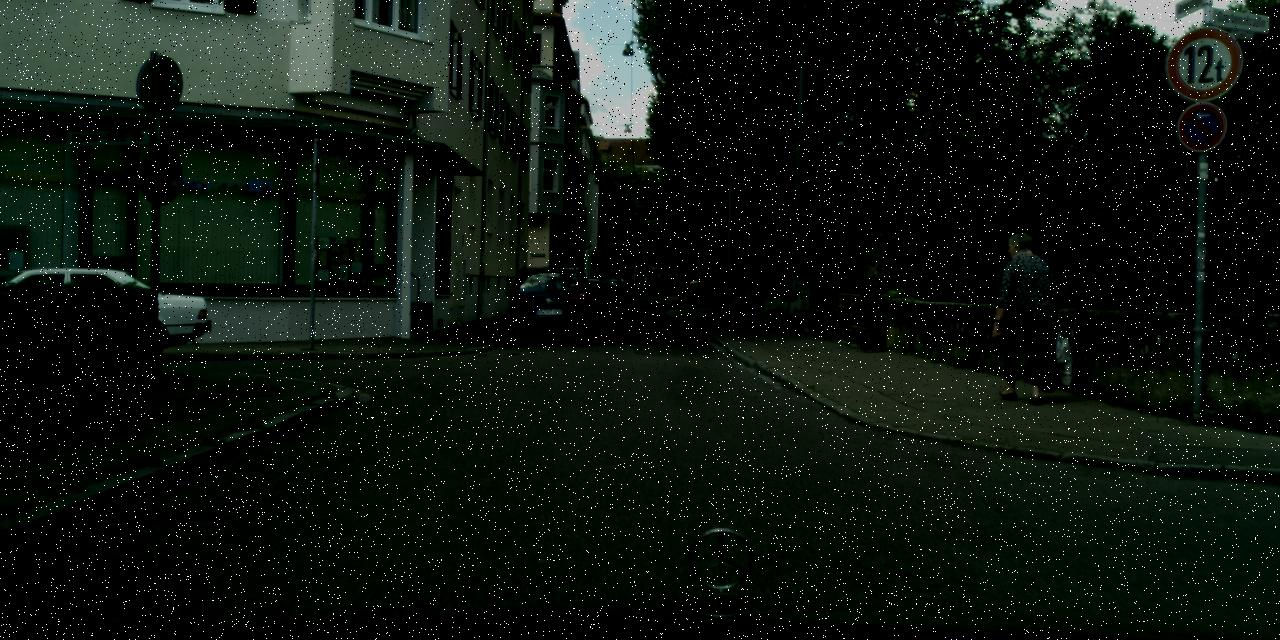ped: (988, 232, 1057, 400), (676, 279, 686, 305), (643, 275, 647, 286)
